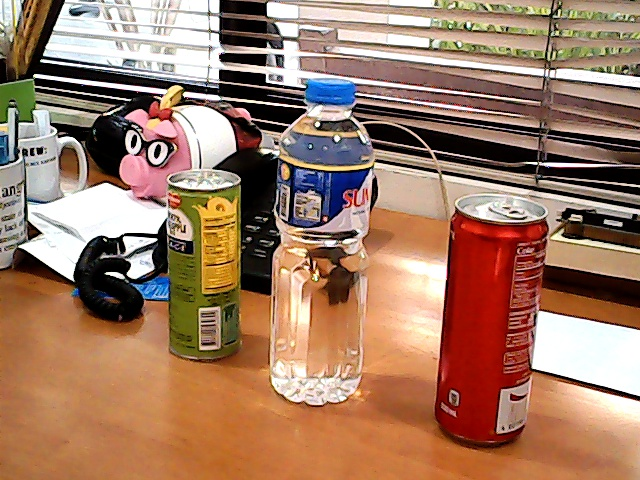Cola: (414, 172, 556, 460)
Pine Juice: (151, 157, 259, 374)
Summit Water: (255, 62, 387, 420)
